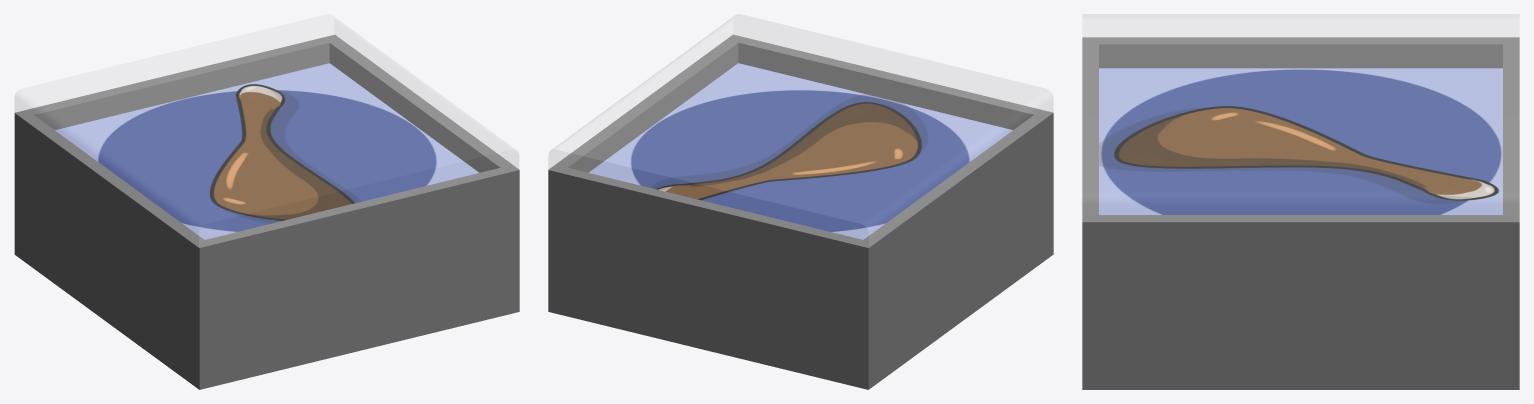
Rendered from disk_kylling.FBX.
The picture shows the model from 3 angles, left to right: view 1: azimuth 30°, elevation 25°; view 2: azimuth 150°, elevation 25°; view 3: azimuth 270°, elevation 25°; orthographic projection. The views are drawn at different scales.
Visible parts, largest first — view 1: Kylling_disk; view 2: Kylling_disk; view 3: Kylling_disk.
Boxes of the visible parts, box(x1,y1,x2,y2) form: Kylling_disk: box(14, 14, 519, 389); Kylling_disk: box(548, 14, 1053, 389); Kylling_disk: box(1082, 14, 1519, 389).
Bounding box in the file's own units: 118 × 57.87 × 118.
